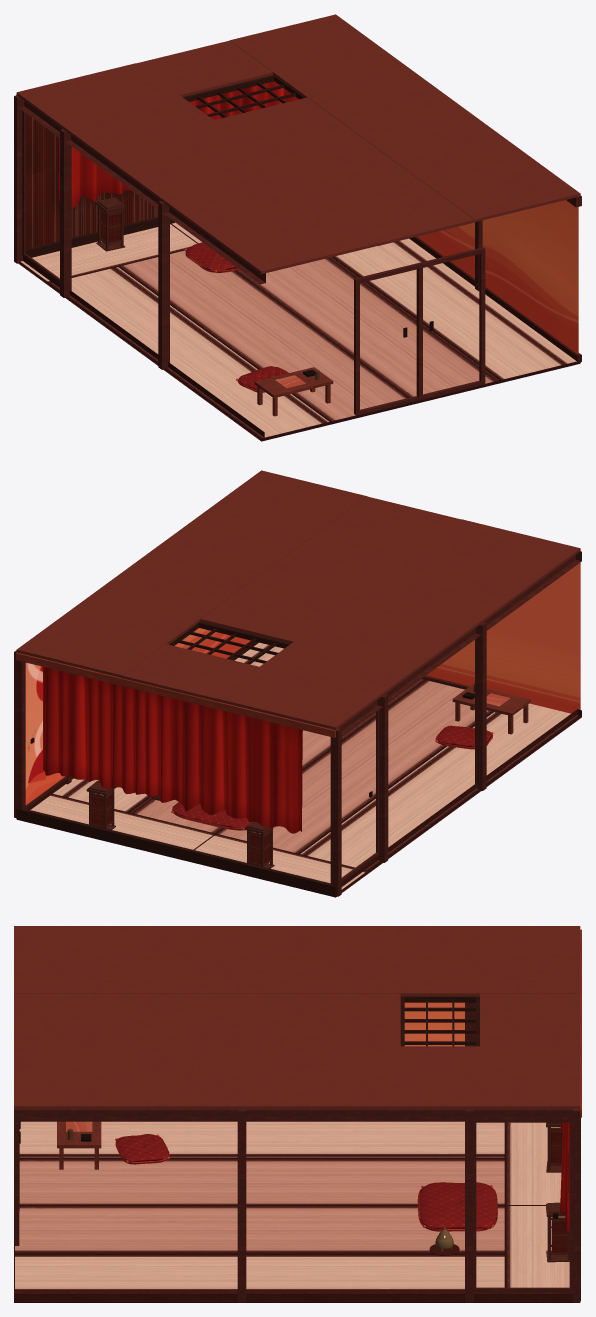
The model's file is haunted-mansion-room-1.lod1.glb.
3 renders of one model, top to bottom at view 1: azimuth 30°, elevation 25°; view 2: azimuth 150°, elevation 25°; view 3: azimuth 270°, elevation 25°, orthographic. The views are drawn at different scales.
Size of the model in its own units: 4.92 by 2.46 by 6.45.
Materials: 41 (33 with a texture image).
